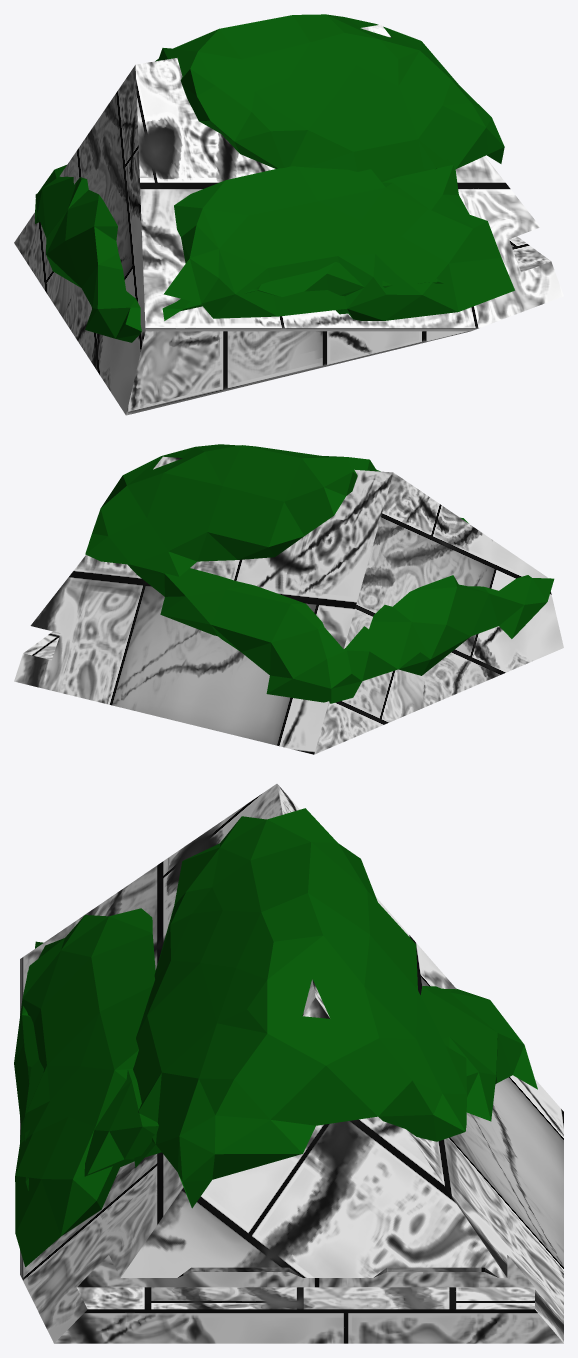
File: building_frag06.fbx
3 views of the same model, one above another, from view 1: azimuth 30°, elevation 25°; view 2: azimuth 150°, elevation 25°; view 3: azimuth 270°, elevation 25° (orthographic). The views are drawn at different scales.
Visible parts, largest first — view 1: building_frag06; view 2: building_frag06; view 3: building_frag06.
Part boxes in pixels (left/top/right/bottom): building_frag06: left=14, top=14, right=563, bottom=415; building_frag06: left=14, top=444, right=563, bottom=754; building_frag06: left=14, top=784, right=563, bottom=1343.
Bounding box in the file's own units: 363 × 197 × 288.
